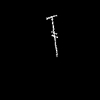treble_crochet: (47, 15, 57, 50)
